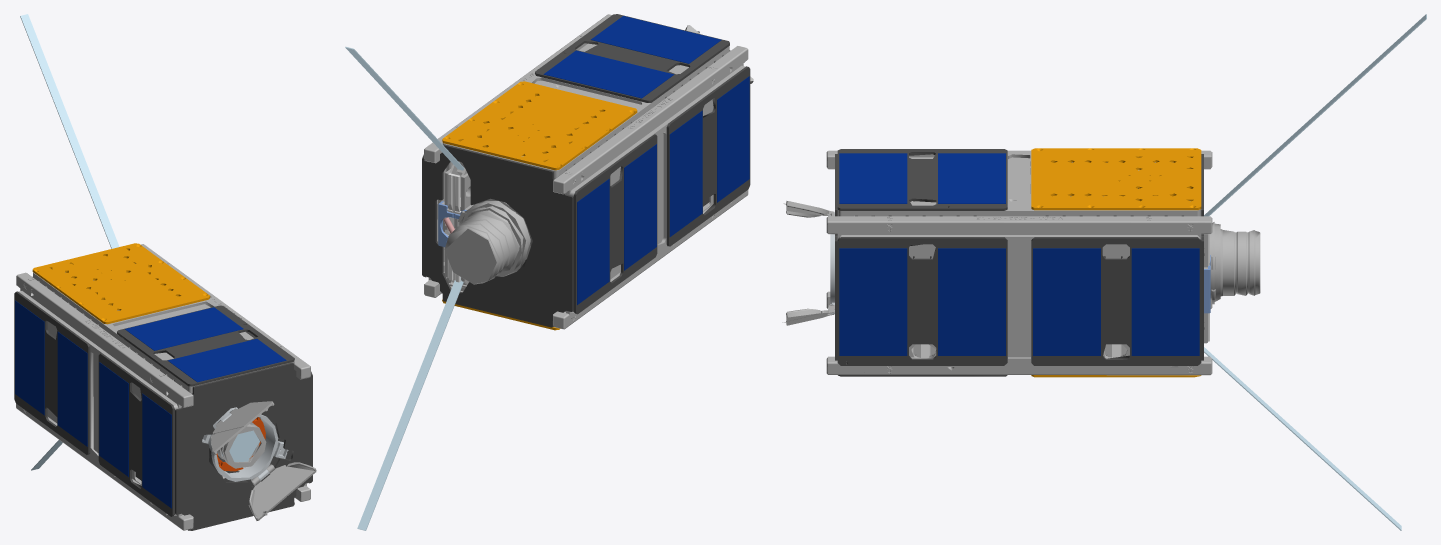
The model's file is oresat-low.glb.
3 renders of one model, left to right at view 1: azimuth 30°, elevation 25°; view 2: azimuth 150°, elevation 25°; view 3: azimuth 270°, elevation 25°, orthographic. The views are drawn at different scales.
Visible parts, largest first — view 1: SolarCell, 0.5 Endcap.001, 2U +X V2, 2U Backplane, radiator, Monopole Deployer, 0.5 L Band, V2Helical; view 2: SolarCell, 2U +X V2, 0.5 Endcap.001, 2U Backplane, radiator, 0.5 L Band, Monopole Deployer, Turnstile Trapdoor; view 3: SolarCell, 2U +X V2, 2U Backplane, radiator, 0.5 L Band, Monopole Deployer, 0.5 Endcap.001.
Part boxes in pixels (box(x1,y1,x2,y2)): SolarCell: box(15, 300, 286, 508); 0.5 Endcap.001: box(175, 362, 311, 528); 2U +X V2: box(16, 244, 310, 530); 2U Backplane: box(14, 291, 312, 530); radiator: box(32, 243, 210, 324); Monopole Deployer: box(211, 401, 316, 520); 0.5 L Band: box(20, 14, 259, 470); V2Helical: box(202, 407, 288, 481); SolarCell: box(543, 16, 749, 304); 2U +X V2: box(424, 14, 748, 329); 0.5 Endcap.001: box(423, 50, 730, 327); 2U Backplane: box(422, 14, 750, 314); radiator: box(442, 81, 637, 330); 0.5 L Band: box(345, 46, 464, 530); Monopole Deployer: box(441, 25, 753, 288); Turnstile Trapdoor: box(447, 173, 461, 282); SolarCell: box(839, 153, 1199, 355); 2U +X V2: box(826, 150, 1260, 375); 2U Backplane: box(837, 149, 1201, 376); radiator: box(1031, 148, 1201, 377); 0.5 L Band: box(1204, 14, 1426, 530); Monopole Deployer: box(782, 201, 1220, 343); 0.5 Endcap.001: box(835, 154, 1203, 360).
Size of the model in its own units: 1.1 by 3.33 by 3.8.
